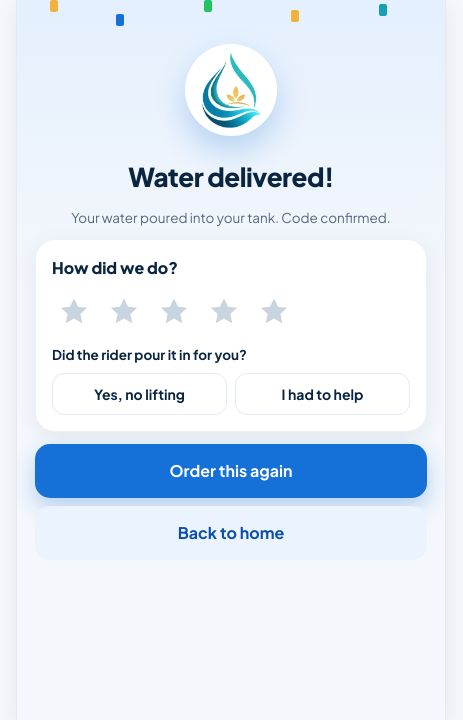
Test case: the rating screen saves only what the customer answered (#256) › saves nothing and records no answer when only the stars are tapped
Click the radio button named "4 stars" at point(224, 311), box [202, 289, 246, 333]
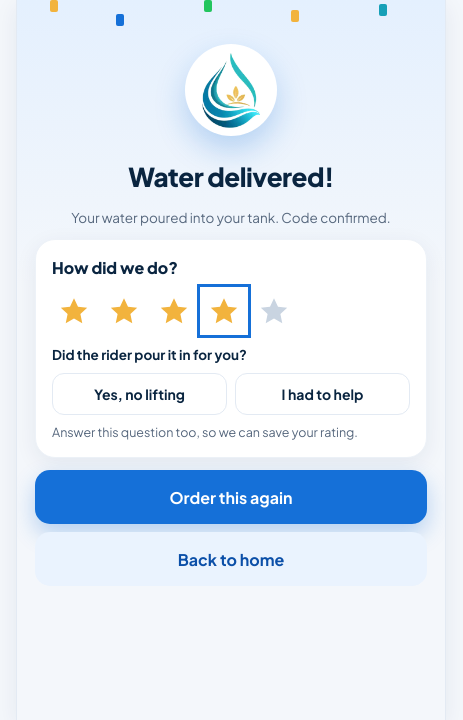
Expected: the text "Answer this question too, so we can save your rating." is shown, [52, 423, 410, 441]
